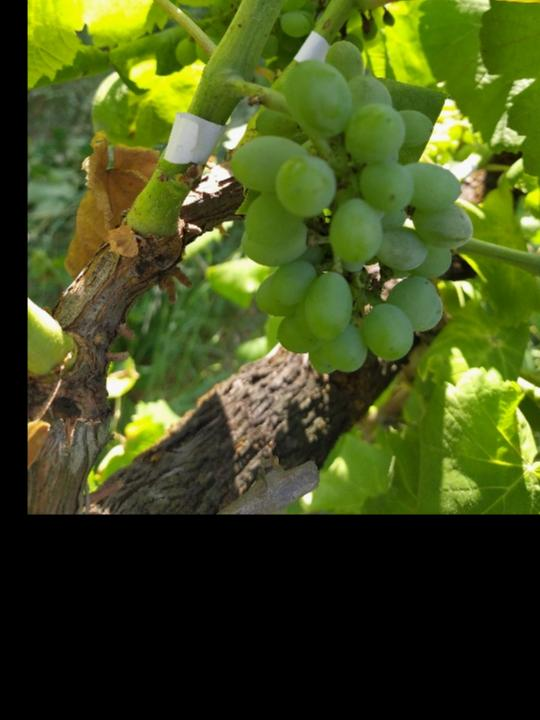grape: (225, 39, 476, 377)
